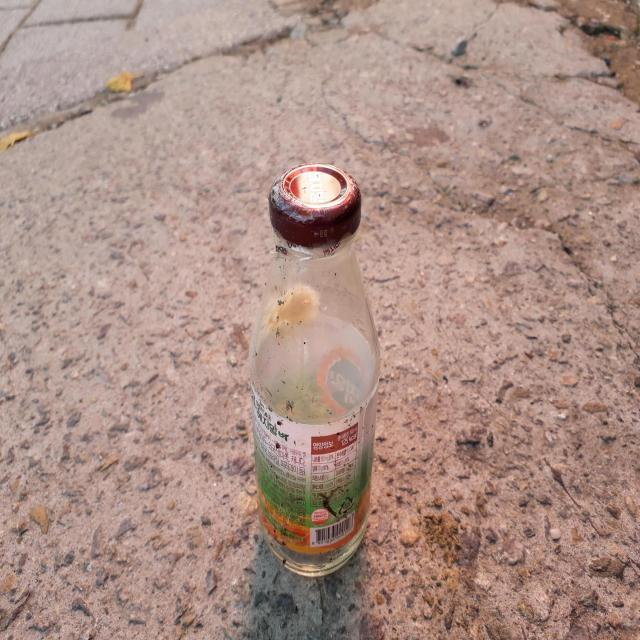glass: (249, 163, 380, 577)
